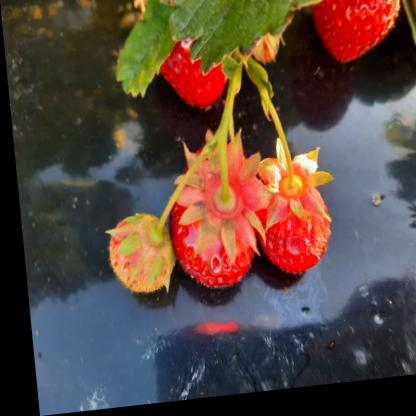ripe: (162, 167, 254, 292), (249, 171, 322, 275), (304, 0, 405, 72), (157, 30, 232, 111)
unripe: (104, 222, 168, 296)
